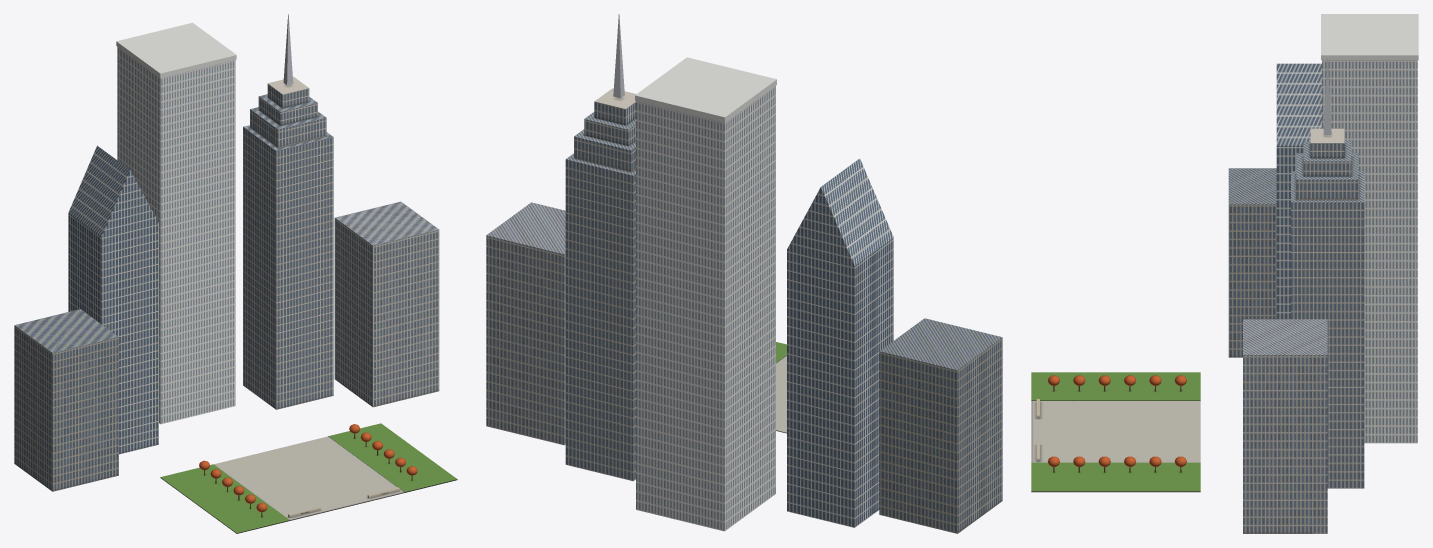
Rendered from cloud_gate.glb.
3 views of the same model, side by side, from view 1: azimuth 30°, elevation 25°; view 2: azimuth 150°, elevation 25°; view 3: azimuth 270°, elevation 25° (orthographic). The views are drawn at different scales.
Visible parts, largest first — view 1: cloud_gate; view 2: cloud_gate; view 3: cloud_gate.
Boxes of the visible parts, bbox=[...] form: cloud_gate: bbox=[14, 14, 457, 533]; cloud_gate: bbox=[486, 14, 1002, 533]; cloud_gate: bbox=[1031, 14, 1418, 533].
Size of the model in its own units: 178 by 163 by 137.
1 material, 1 textured.
